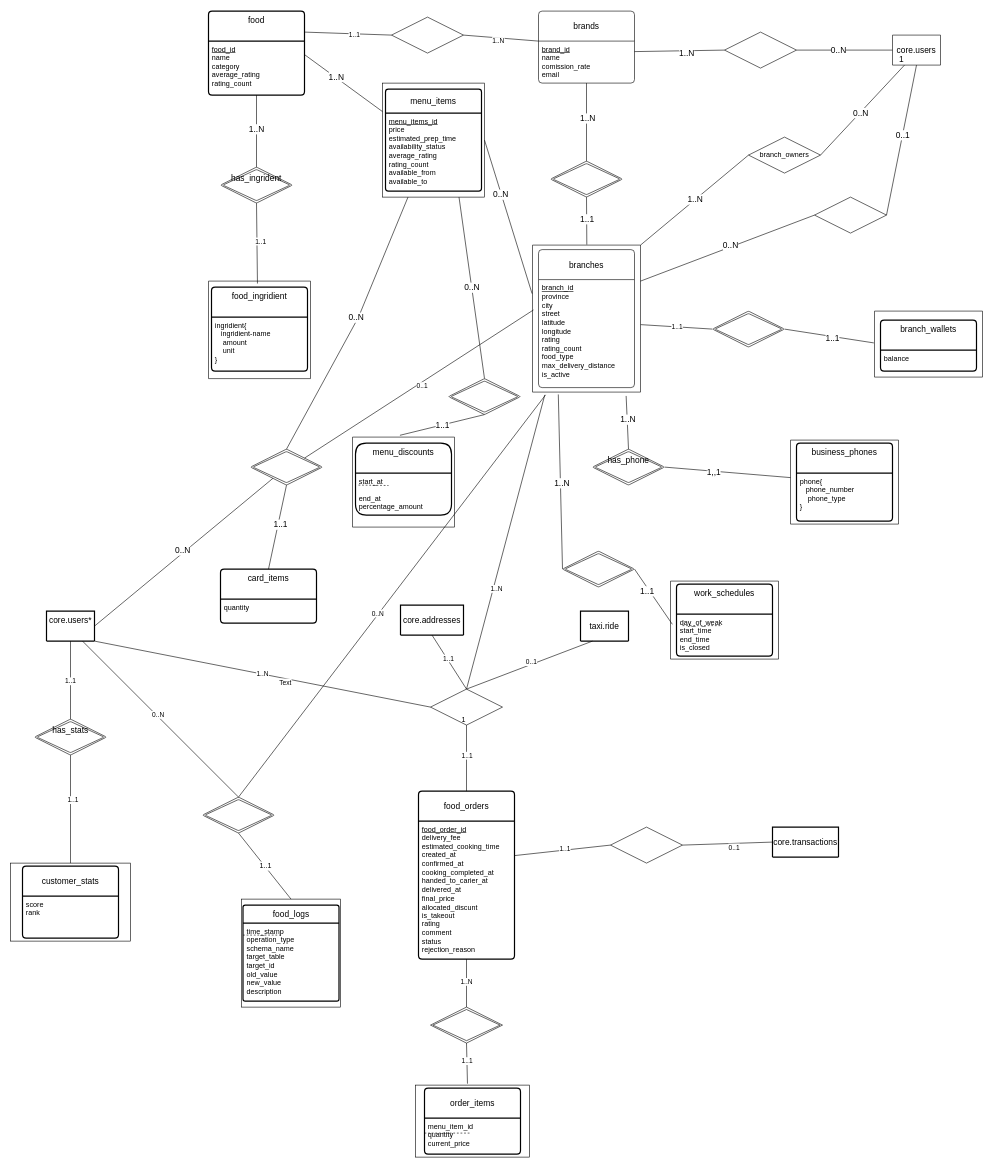
This 993x1168 diagram has some shape labels left out. The centre of each missing label's shape, as x and y in pixels:
adds_to_cart: the point at 286,466
branch_wallet: the point at 748,328
brand_owners: the point at 760,50
contains: the point at 466,1024
discount_of: the point at 484,396
genrates: the point at 466,706
has_branch: the point at 586,178
has_scheduele: the point at 598,568
offers: the point at 427,34
order_payments: the point at 646,844
performs_action: the point at 238,814
resturaunt_staf: the point at 850,214
